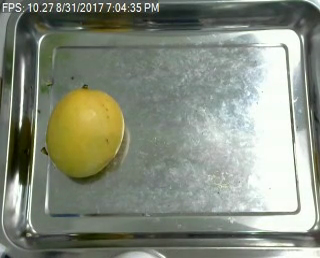Mango: (46, 88, 124, 177)
